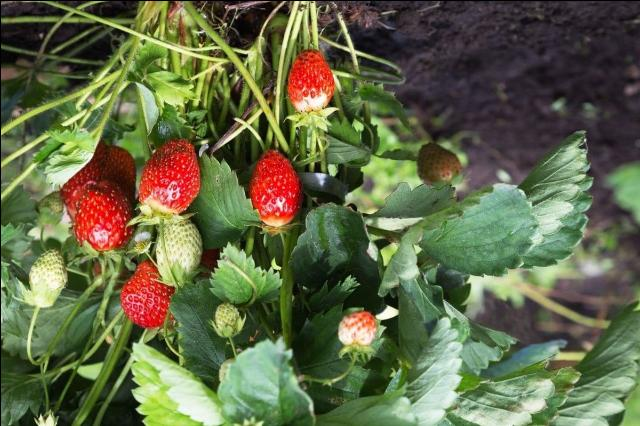Strawberries: (140, 136, 198, 219), (74, 176, 132, 252), (251, 148, 299, 228), (122, 257, 174, 329), (287, 48, 331, 112)
